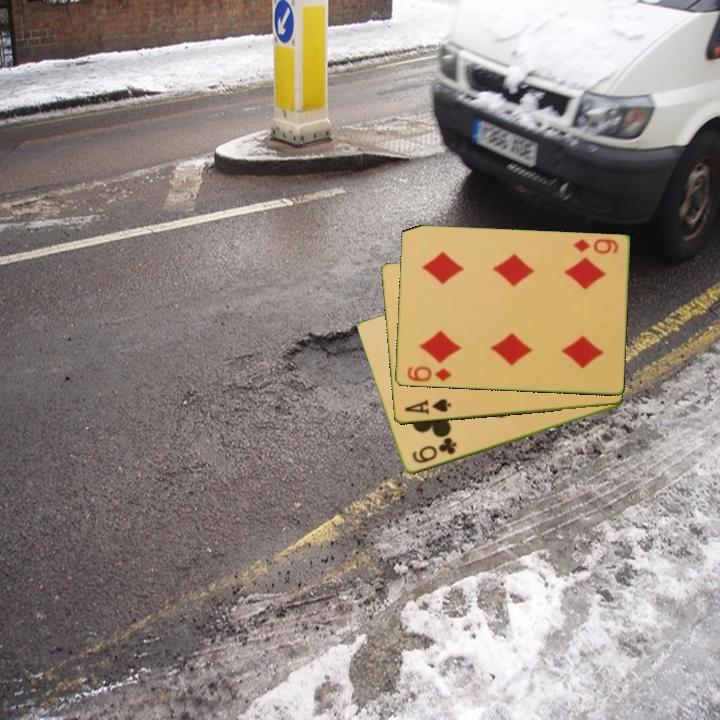6c: (408, 435, 459, 467)
6d: (403, 363, 454, 385), (570, 235, 621, 257)
As: (400, 395, 453, 417)
